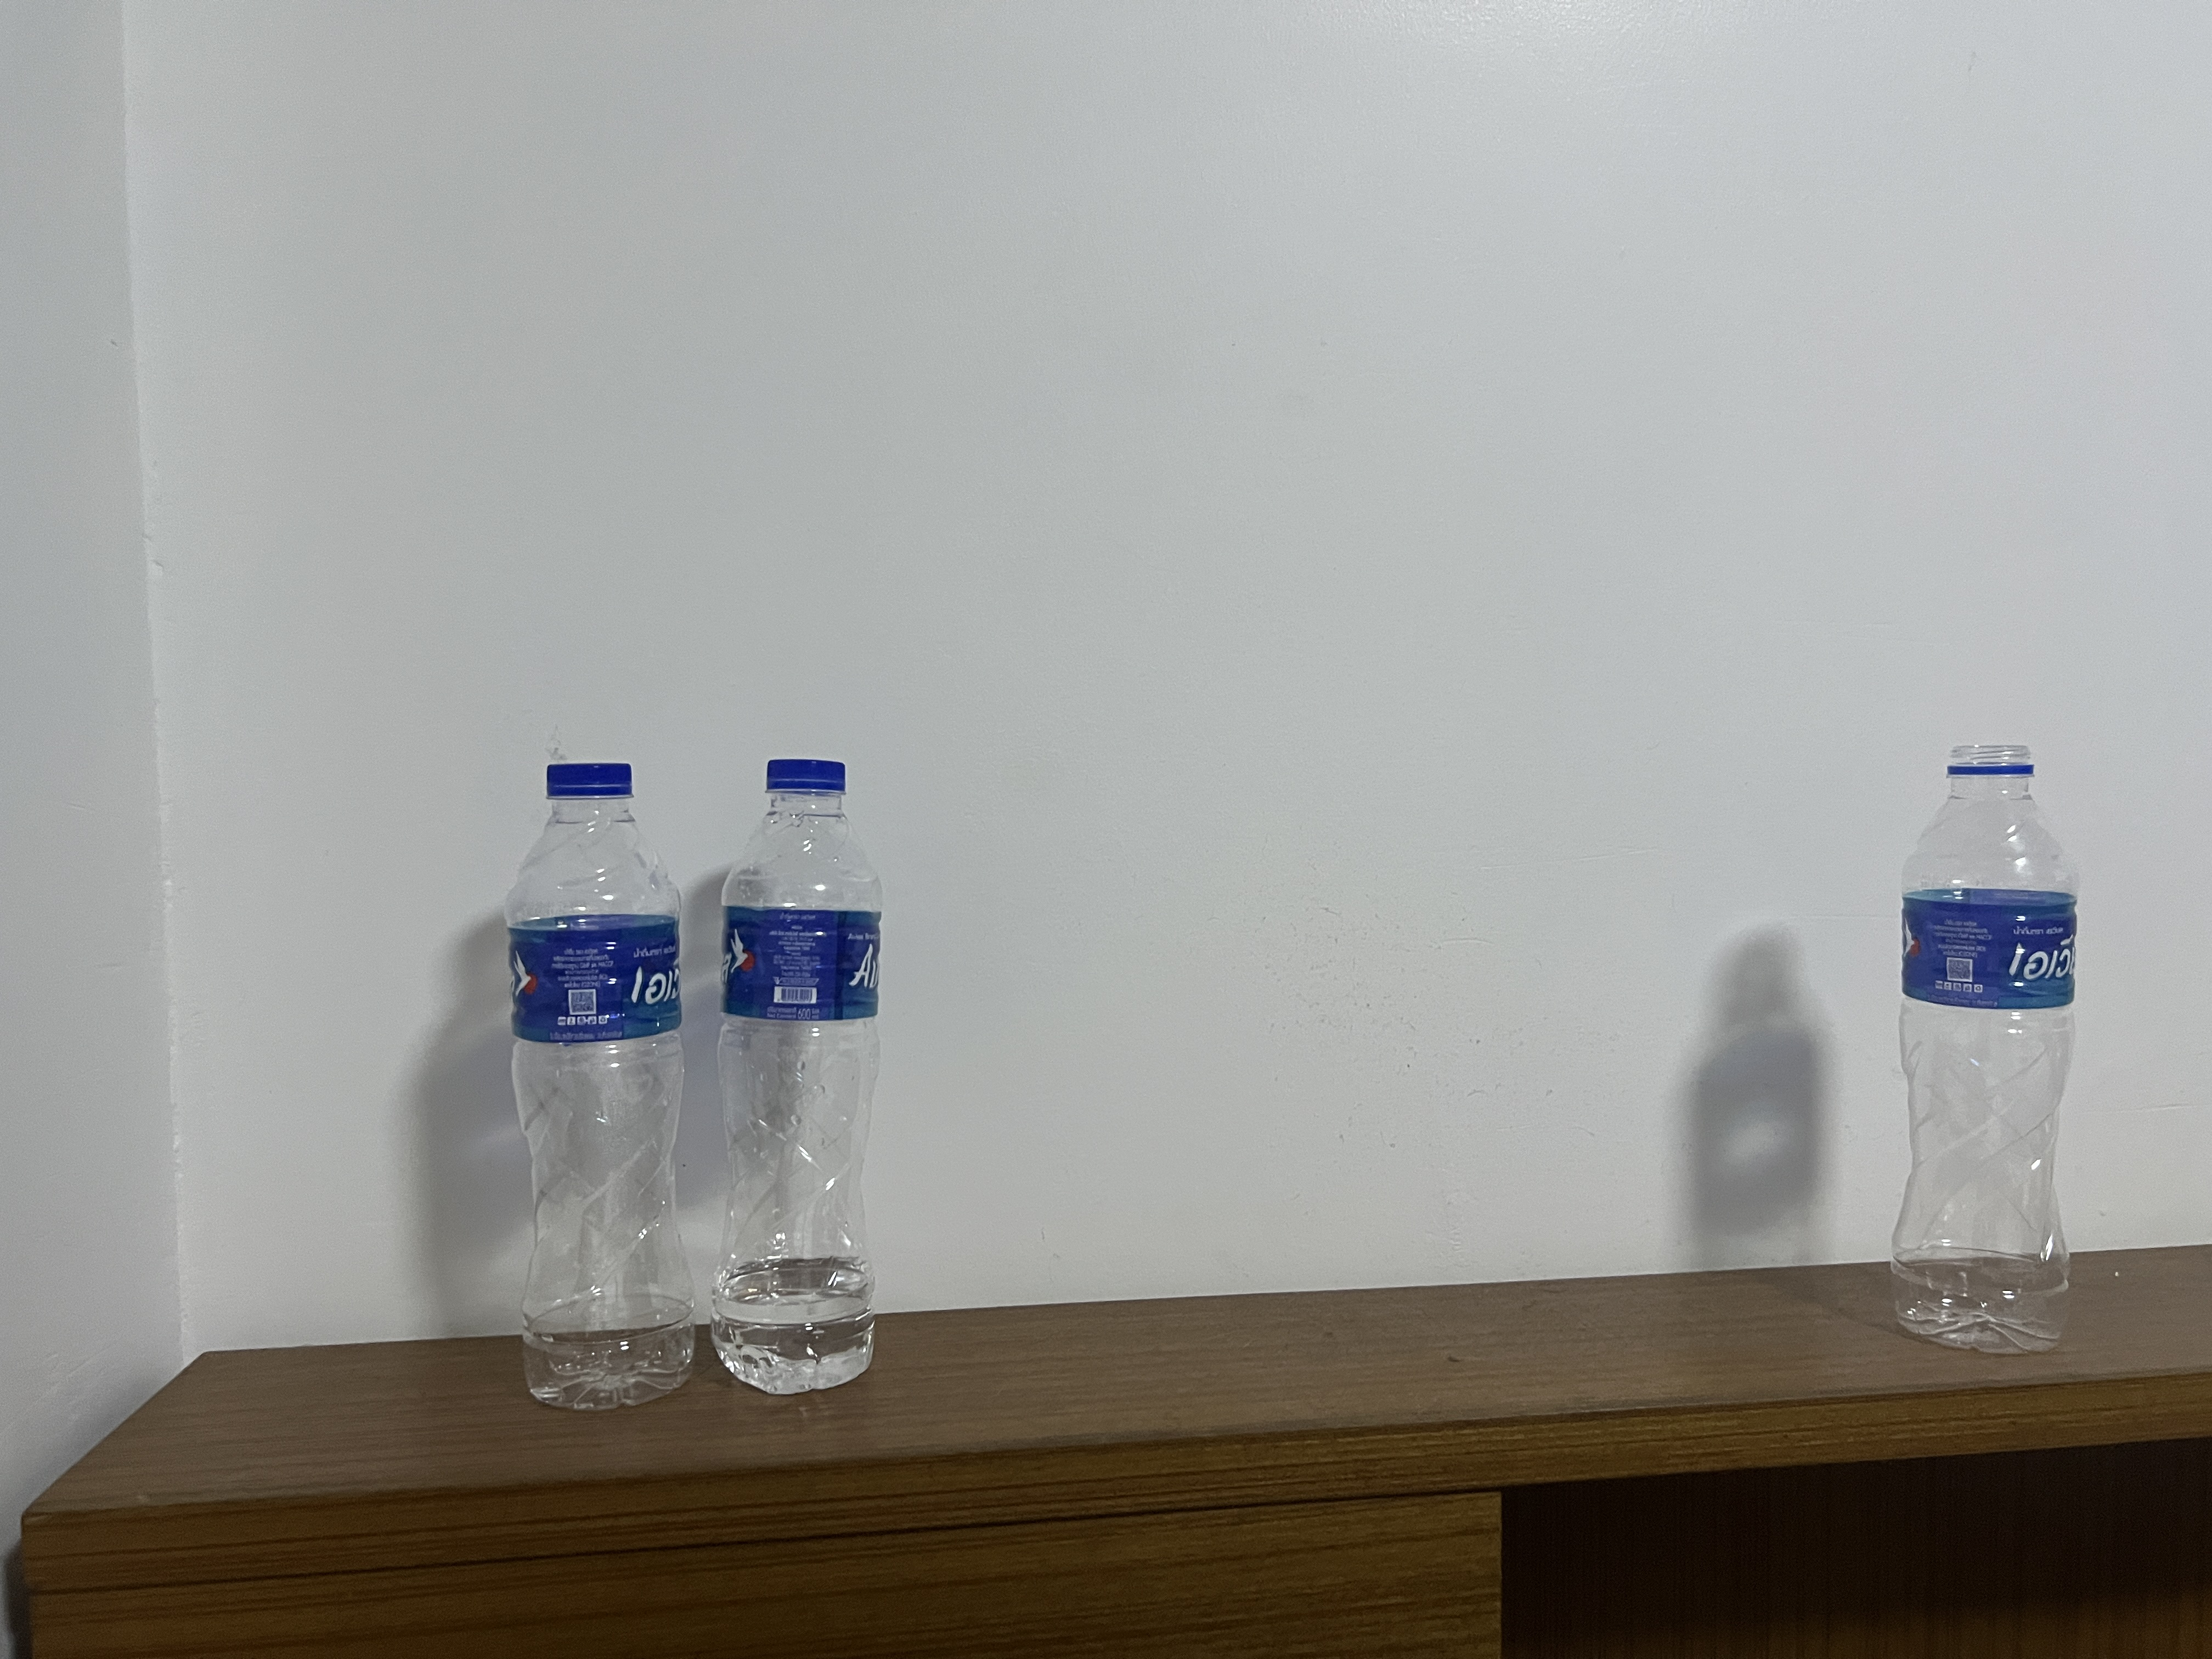plastic_bottle: (1844, 725, 2125, 1380), (470, 741, 714, 1424), (697, 732, 927, 1420)
